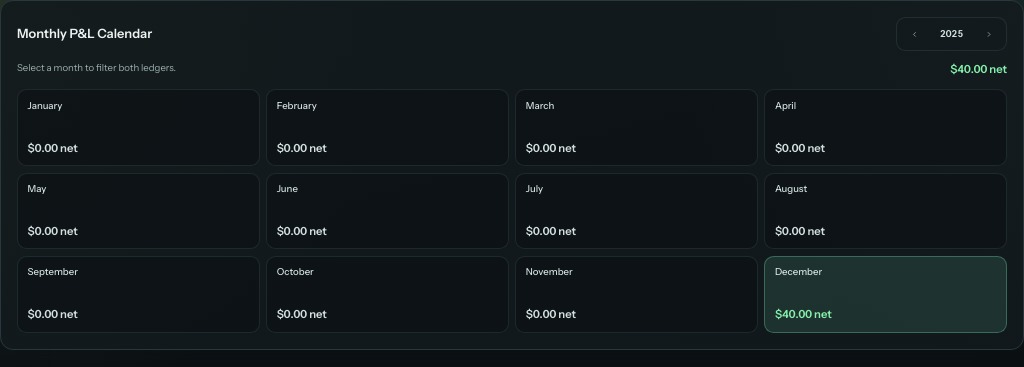
Test: ExpenseCalendarCard › navigates by year within combined data and as-of bounds
This screenshot has width=1024, height=367.
Check: the button named "Next year" is enabled, box [974,21,1003,47]
Click the button named "Previous year" at (915, 34), box [900,21,929,47]
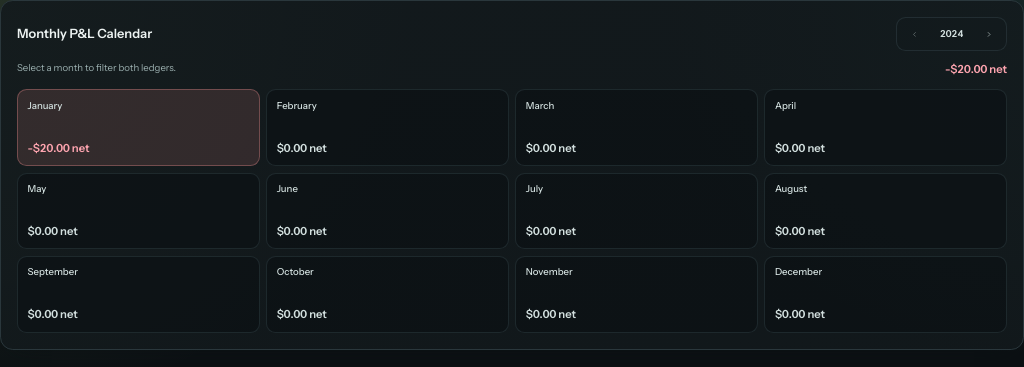
Check: the table named "2024 monthly payouts and expenses" is shown
Click the button named "Next year" at (988, 34), box [974,21,1003,47]
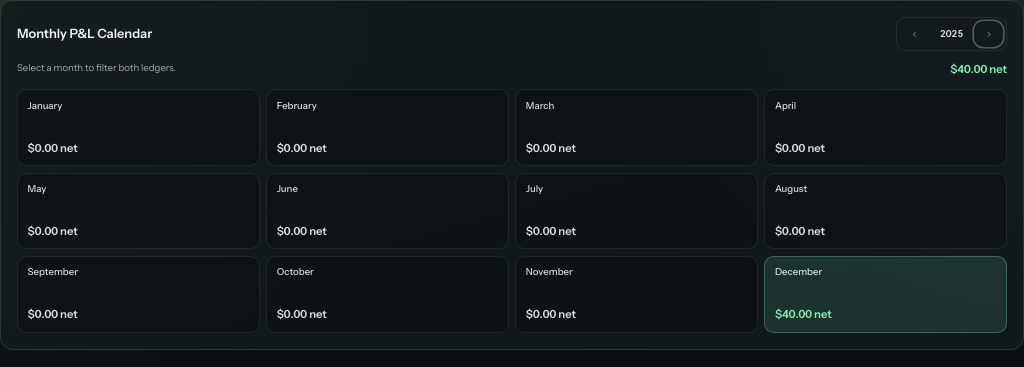
Click the button named "Next year" at (988, 34), box [974,21,1003,47]
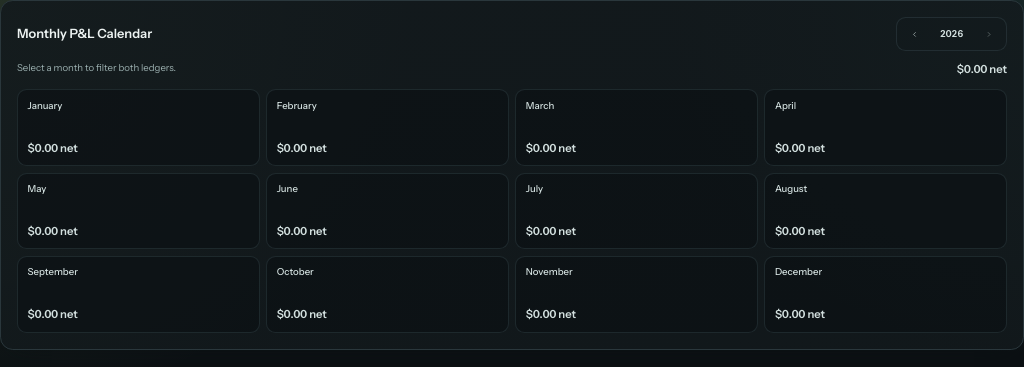
Check: the table named "2026 monthly payouts and expenses" is shown
Check: the button named "Next year" is disabled, box [974,21,1003,47]
